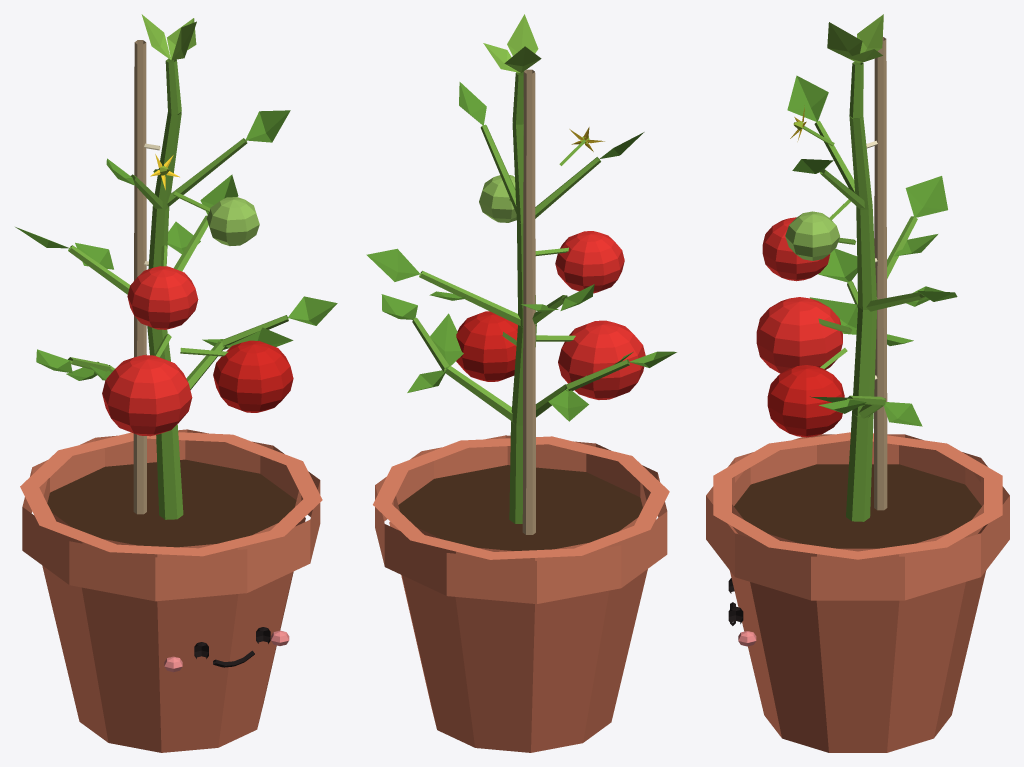
File: tomato_stage3.glb
3 views of the same model, side by side, from view 1: azimuth 30°, elevation 25°; view 2: azimuth 150°, elevation 25°; view 3: azimuth 270°, elevation 25° (orthographic).
Parts seen in each view (by area): view 1: tomato_stage3_mature; view 2: tomato_stage3_mature; view 3: tomato_stage3_mature.
Boxes of the visible parts, <box> form: tomato_stage3_mature: <box>15,14,337,752</box>; tomato_stage3_mature: <box>366,14,676,752</box>; tomato_stage3_mature: <box>706,14,1009,752</box>.
Bounding box in the file's own units: 2.15 × 4.77 × 1.88.
